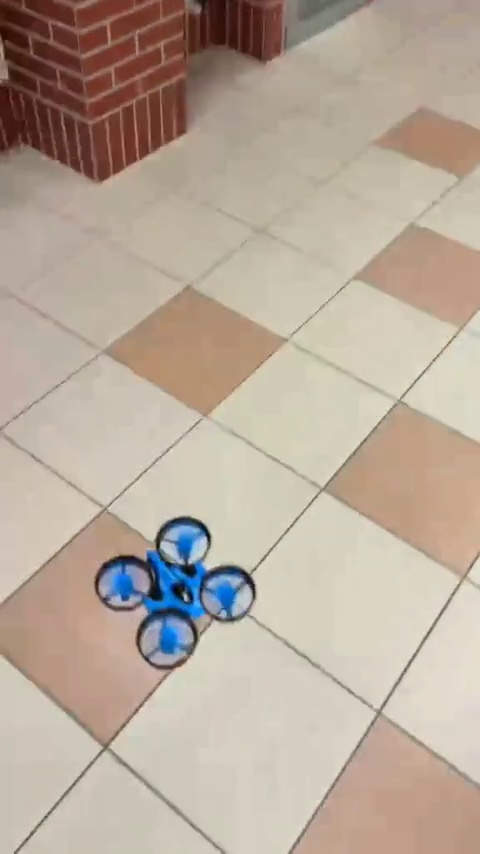drone: (96, 517, 256, 668)
